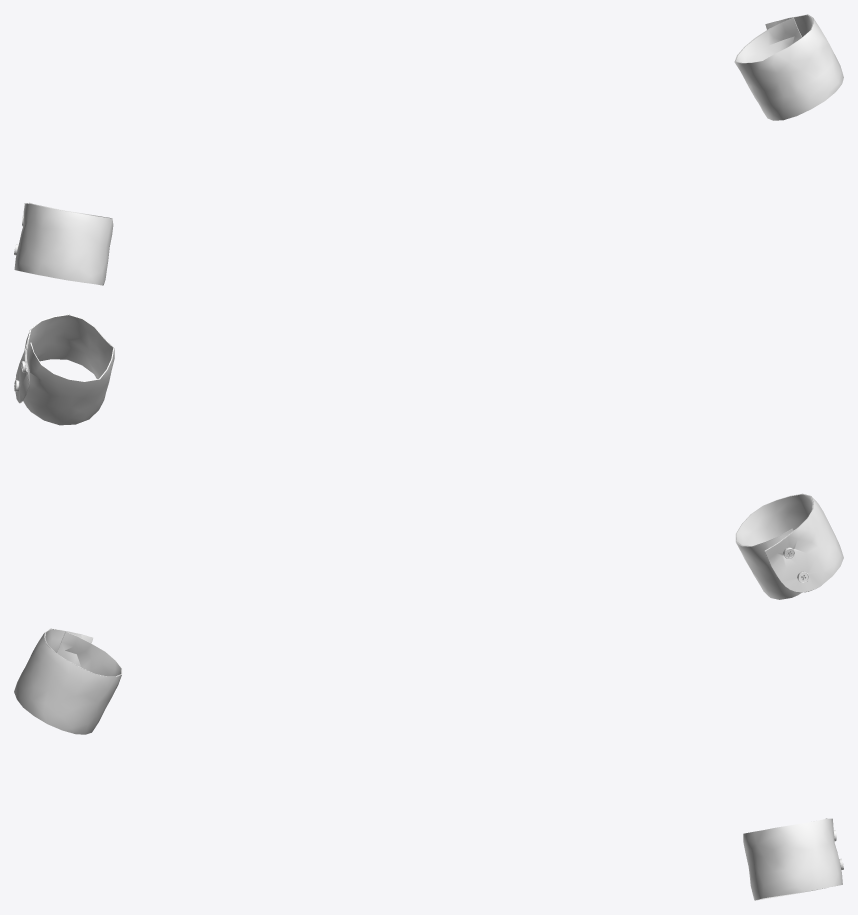
Rendered from round-double-button-cuff.glb.
3 views of the same model, one above another, from view 1: azimuth 30°, elevation 25°; view 2: azimuth 150°, elevation 25°; view 3: azimuth 330°, elevation 25° (orthographic).
Parts seen in each view (by area): view 1: right_upper, left_upper, left_inner; view 2: right_upper, left_upper, left_inner, right_inner; view 3: left_upper, right_upper, right_inner.
Part boxes in pixels (x1,y1,x2,y2): right_upper: [14, 203, 113, 285]; left_upper: [734, 14, 843, 120]; left_inner: [735, 15, 813, 62]; right_upper: [735, 493, 843, 599]; left_upper: [15, 314, 114, 425]; left_inner: [20, 314, 113, 403]; right_inner: [736, 494, 813, 592]; left_upper: [743, 818, 842, 900]; right_upper: [14, 628, 122, 734]; right_inner: [44, 629, 121, 676].
Size of the model in its own units: 0.833 by 0.0884 by 0.1023.
2 materials, 2 textured.
